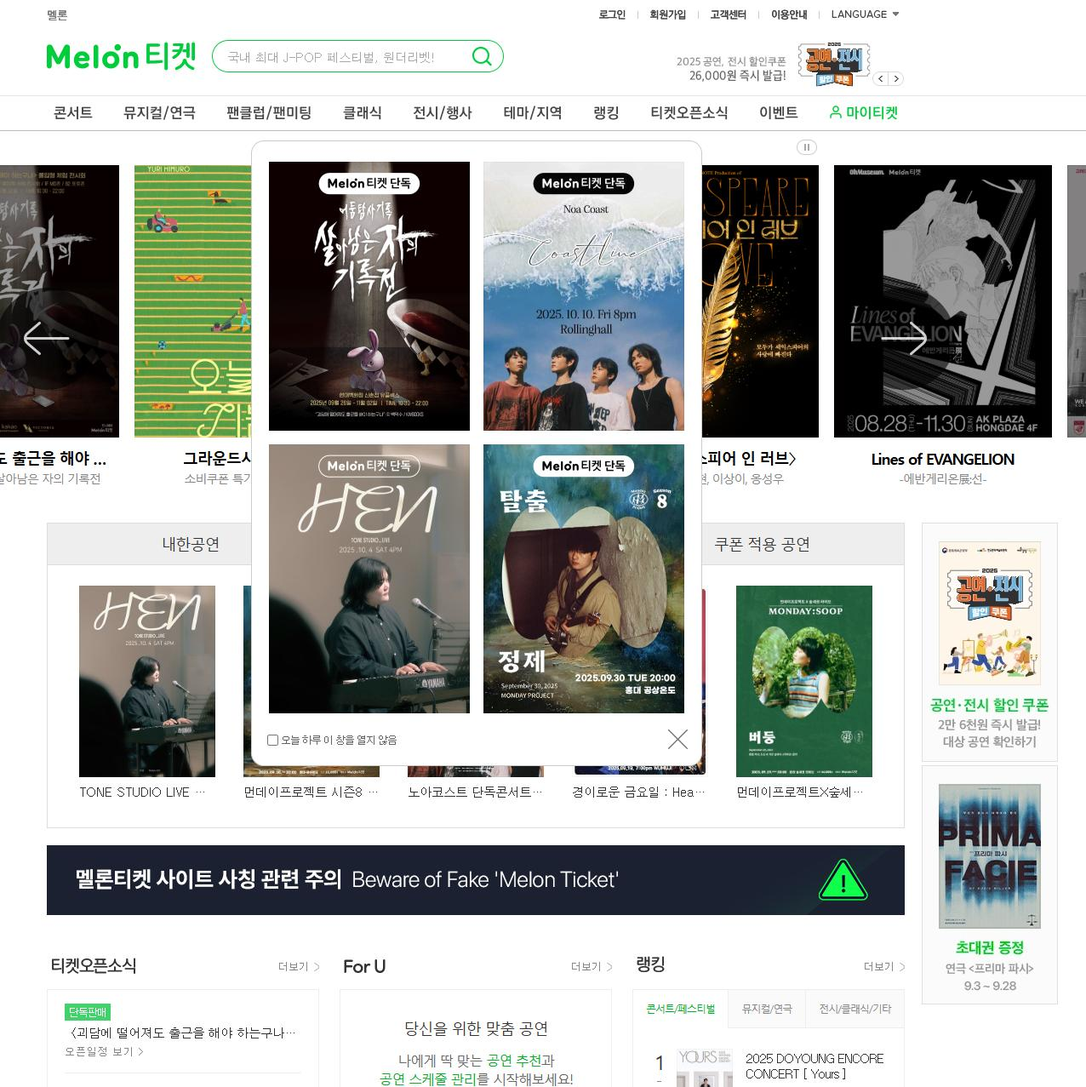button: (226, 92, 329, 126), (123, 90, 214, 124), (490, 97, 570, 129), (43, 90, 112, 123), (409, 95, 483, 123), (827, 95, 902, 121), (638, 0, 694, 29), (334, 92, 385, 123), (650, 102, 723, 123), (814, 0, 895, 17), (844, 960, 924, 977), (757, 0, 800, 22), (271, 957, 317, 977), (562, 952, 613, 970), (584, 7, 630, 26), (751, 100, 802, 117), (703, 0, 742, 22), (587, 97, 628, 117), (666, 735, 696, 752), (878, 65, 899, 80)
checkbox: (266, 729, 405, 751)
input_field: (211, 37, 500, 68)
popup: (252, 138, 703, 764), (923, 509, 1076, 1013)
